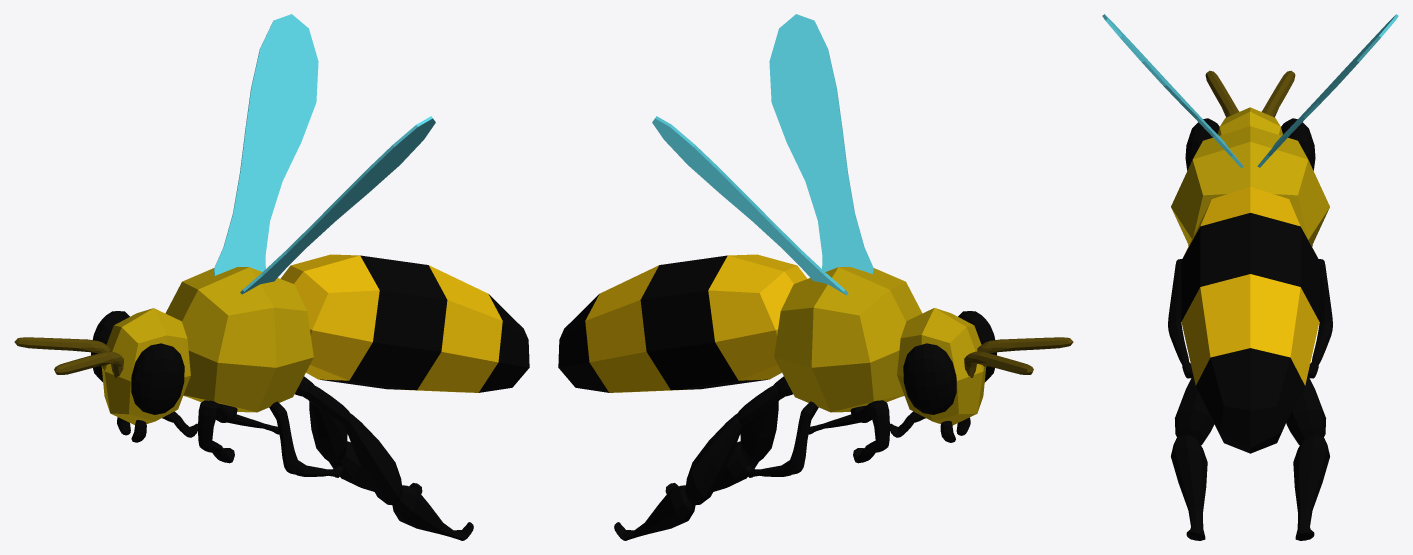
The model's file is insect.glb.
3 views of the same model, side by side, from view 1: azimuth 30°, elevation 25°; view 2: azimuth 150°, elevation 25°; view 3: azimuth 270°, elevation 25° (orthographic). The views are drawn at different scales.
Visible parts, largest first — view 1: Cube.002_Cube.003, Plane, Cube_Cube.001, Cube.005_Cube.008, Cube.001_Cube.002, Cube.006_Cube.009, Cube.007_Cube.010, Cube.003_Cube.006, Cube.004_Cube.007; view 2: Cube.002_Cube.003, Plane, Cube_Cube.001, Cube.005_Cube.008, Cube.001_Cube.002, Cube.006_Cube.009, Cube.007_Cube.010, Cube.003_Cube.006, Cube.004_Cube.007; view 3: Cube.002_Cube.003, Cube_Cube.001, Cube.005_Cube.008, Cube.004_Cube.007, Plane, Cube.006_Cube.009, Cube.007_Cube.010, Cube.001_Cube.002.
Part boxes in pixels (x1=…): Cube.002_Cube.003: x1=280, y1=254, x2=529, y2=392; Plane: x1=213, y1=14, x2=435, y2=294; Cube_Cube.001: x1=165, y1=267, x2=313, y2=412; Cube.005_Cube.008: x1=295, y1=376, x2=473, y2=540; Cube.001_Cube.002: x1=101, y1=308, x2=190, y2=424; Cube.006_Cube.009: x1=91, y1=311, x2=184, y2=414; Cube.007_Cube.010: x1=14, y1=337, x2=123, y2=377; Cube.003_Cube.006: x1=162, y1=400, x2=237, y2=463; Cube.004_Cube.007: x1=228, y1=401, x2=343, y2=477; Cube.002_Cube.003: x1=558, y1=254, x2=807, y2=392; Plane: x1=652, y1=14, x2=874, y2=295; Cube_Cube.001: x1=774, y1=267, x2=922, y2=412; Cube.005_Cube.008: x1=614, y1=376, x2=792, y2=540; Cube.001_Cube.002: x1=897, y1=308, x2=986, y2=425; Cube.006_Cube.009: x1=903, y1=311, x2=996, y2=414; Cube.007_Cube.010: x1=964, y1=337, x2=1073, y2=377; Cube.003_Cube.006: x1=850, y1=400, x2=925, y2=463; Cube.004_Cube.007: x1=744, y1=401, x2=859, y2=477; Cube.002_Cube.003: x1=1181, y1=187, x2=1319, y2=453; Cube_Cube.001: x1=1171, y1=126, x2=1329, y2=245; Cube.005_Cube.008: x1=1171, y1=375, x2=1329, y2=540; Cube.004_Cube.007: x1=1168, y1=259, x2=1332, y2=378; Plane: x1=1102, y1=14, x2=1398, y2=167; Cube.006_Cube.009: x1=1185, y1=118, x2=1315, y2=170; Cube.007_Cube.010: x1=1205, y1=70, x2=1295, y2=117; Cube.001_Cube.002: x1=1217, y1=107, x2=1282, y2=135.
Size of the model in its own units: 3.83 by 3.5 by 1.94.
